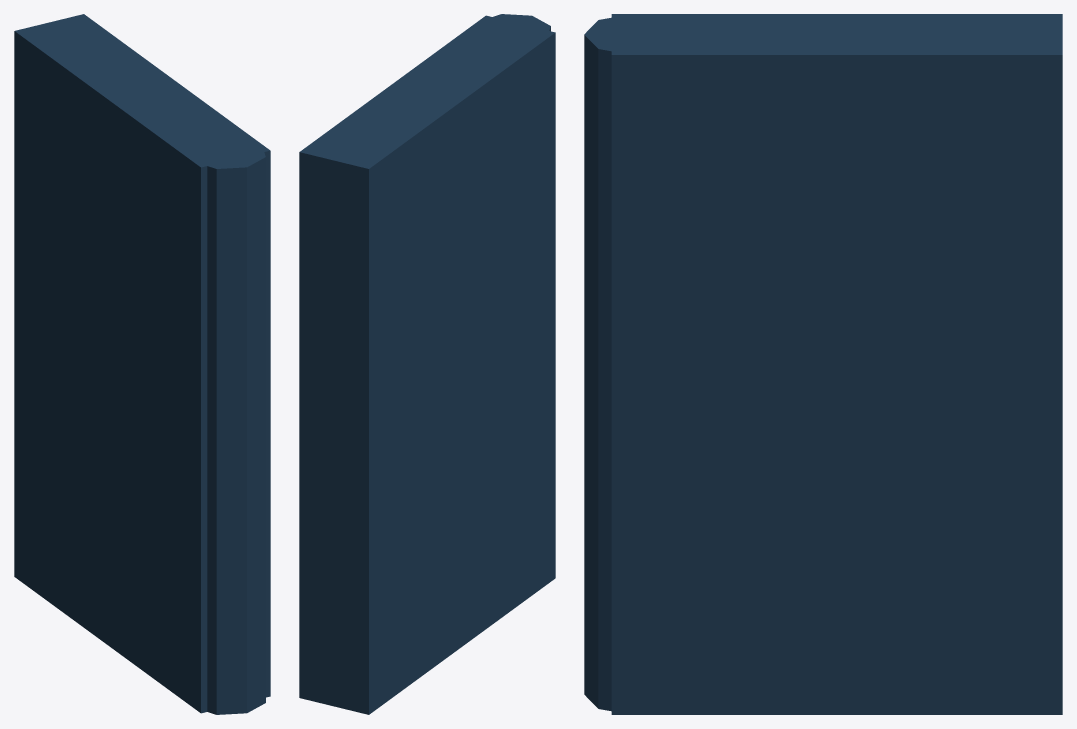
Rendered from rudder_pivot.glb.
3 views of the same model, side by side, from view 1: azimuth 30°, elevation 25°; view 2: azimuth 150°, elevation 25°; view 3: azimuth 270°, elevation 25° (orthographic). The views are drawn at different scales.
Visible parts, largest first — view 1: rudder, rudder_hinge; view 2: rudder, rudder_hinge; view 3: rudder, rudder_hinge.
Part boxes in pixels (box(x1,y1,x2,y2)): rudder: box(14, 14, 270, 713); rudder_hinge: box(189, 136, 265, 714); rudder: box(299, 15, 555, 714); rudder_hinge: box(473, 14, 550, 46); rudder: box(611, 14, 1062, 714); rudder_hinge: box(584, 14, 680, 711).
Bounding box in the file's own units: 0.11 × 0.8252 × 0.5424.
